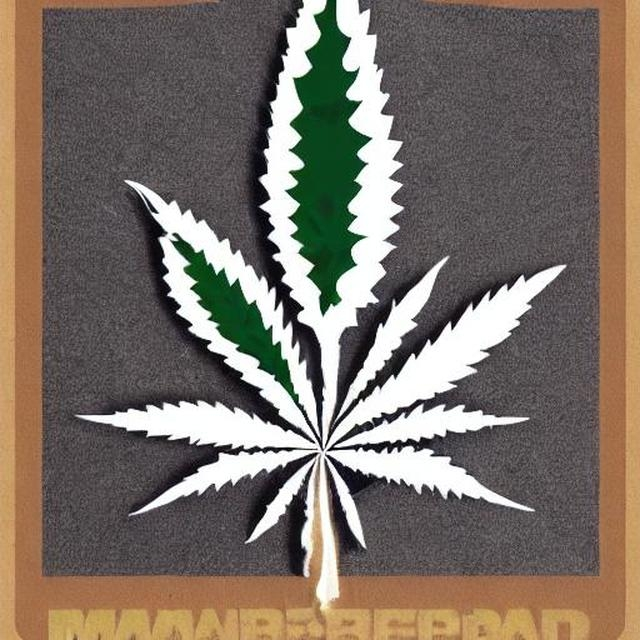Marijuana Leaf: (72, 177, 566, 602), (256, 0, 405, 322)
